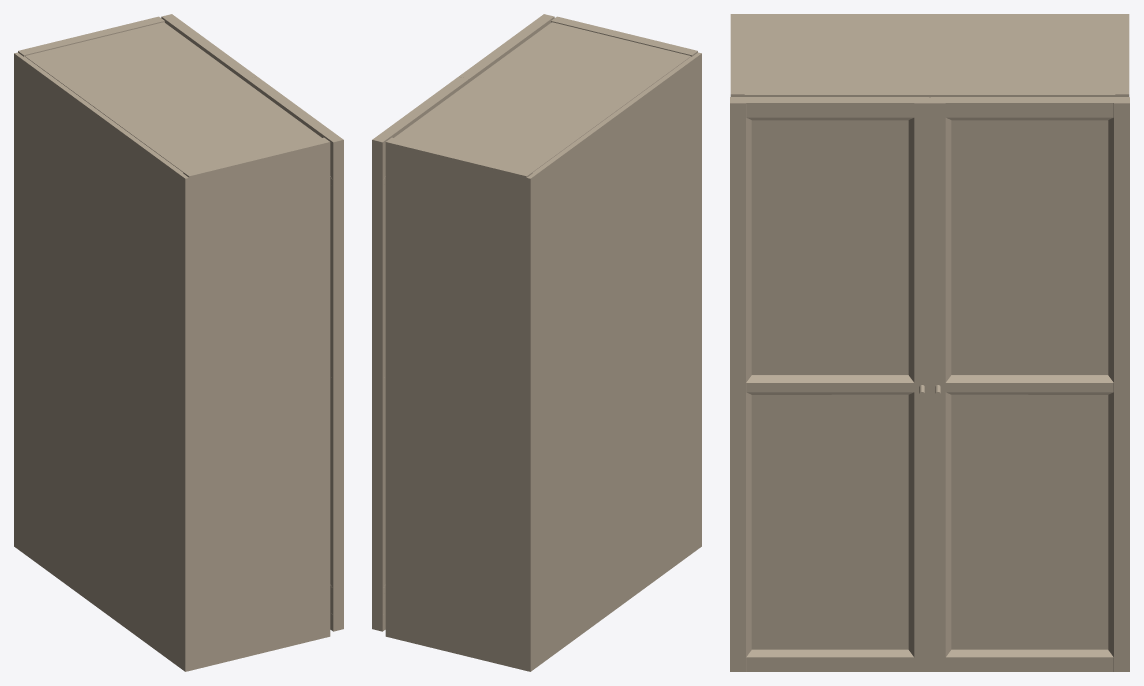
Rendered from 3dcodebench_Cabinet_seed0.glb.
3 views of the same model, side by side, from view 1: azimuth 30°, elevation 25°; view 2: azimuth 150°, elevation 25°; view 3: azimuth 270°, elevation 25° (orthographic). The views are drawn at different scales.
Visible parts, largest first — view 1: object; view 2: object; view 3: object.
Part boxes in pixels (x1=…): object: x1=14, y1=14, x2=343, y2=671; object: x1=372, y1=14, x2=701, y2=671; object: x1=730, y1=14, x2=1129, y2=671.
Size of the model in its own units: 0.3577 by 0.9918 by 0.6248.
